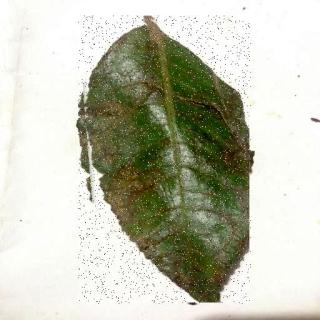Red Leaf Spot: (80, 18, 252, 306)
